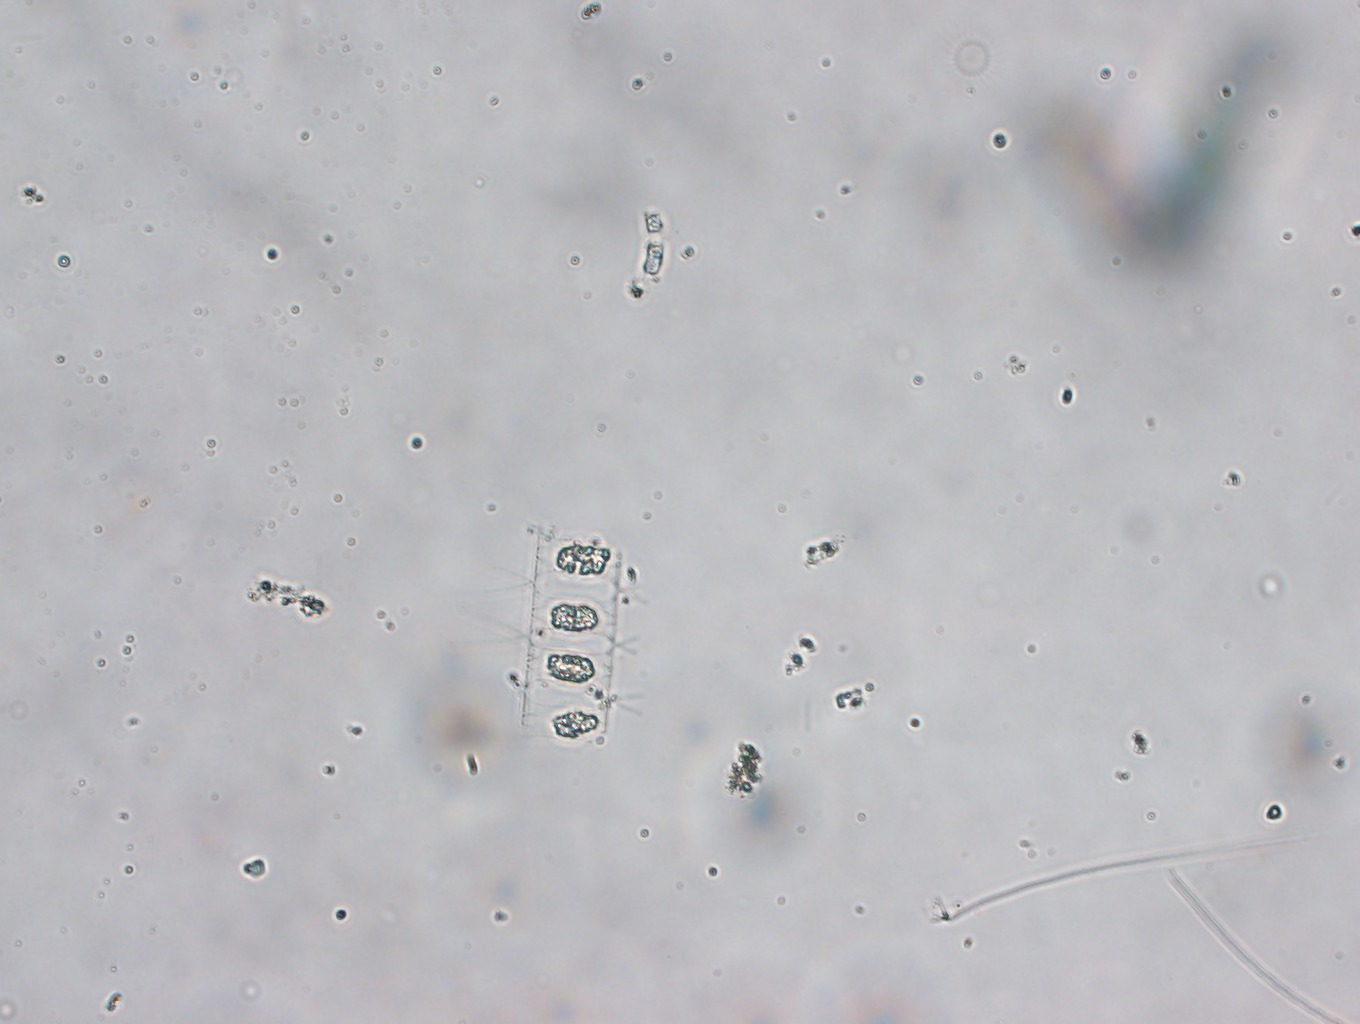chaetoceros: (478, 531, 661, 743)
